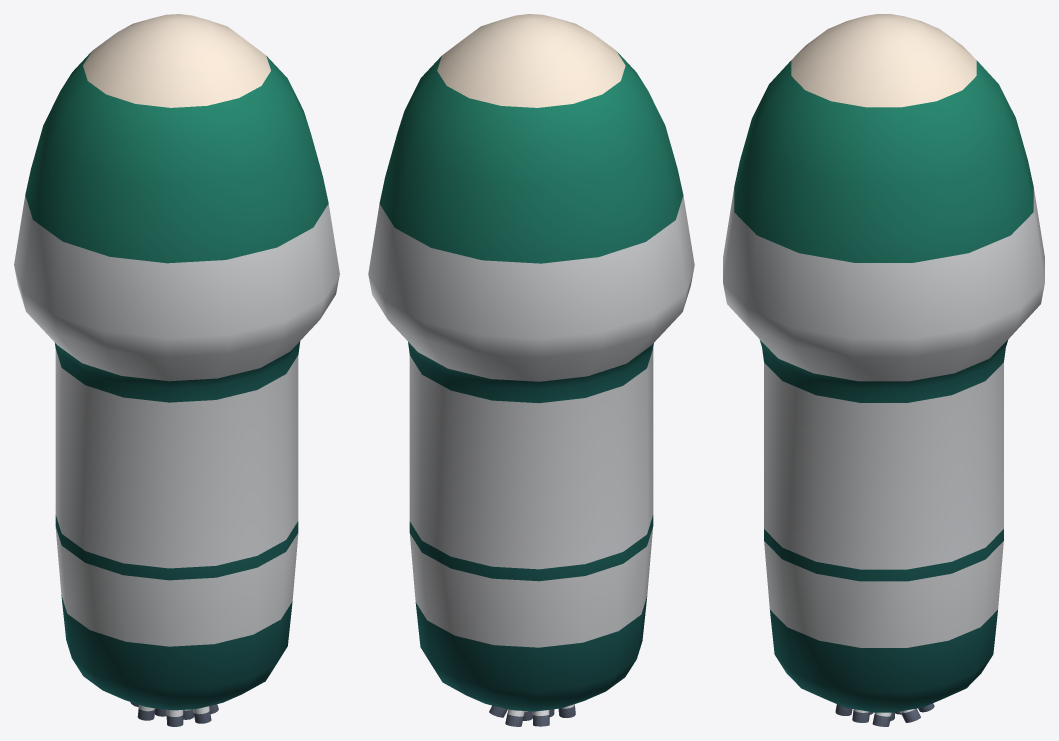
File: F_P_Fireworks_4_2.FBX
The picture shows the model from 3 angles, left to right: view 1: azimuth 30°, elevation 25°; view 2: azimuth 150°, elevation 25°; view 3: azimuth 270°, elevation 25°; orthographic projection.
Visible parts, largest first — view 1: F_P_Fireworks_4_2; view 2: F_P_Fireworks_4_2; view 3: F_P_Fireworks_4_2.
Part boxes in pixels (x1,y1,x2,y2): F_P_Fireworks_4_2: (14, 14, 339, 726); F_P_Fireworks_4_2: (368, 14, 694, 726); F_P_Fireworks_4_2: (723, 14, 1044, 726).
Bounding box in the file's own units: 54.97 × 131 × 54.97.
